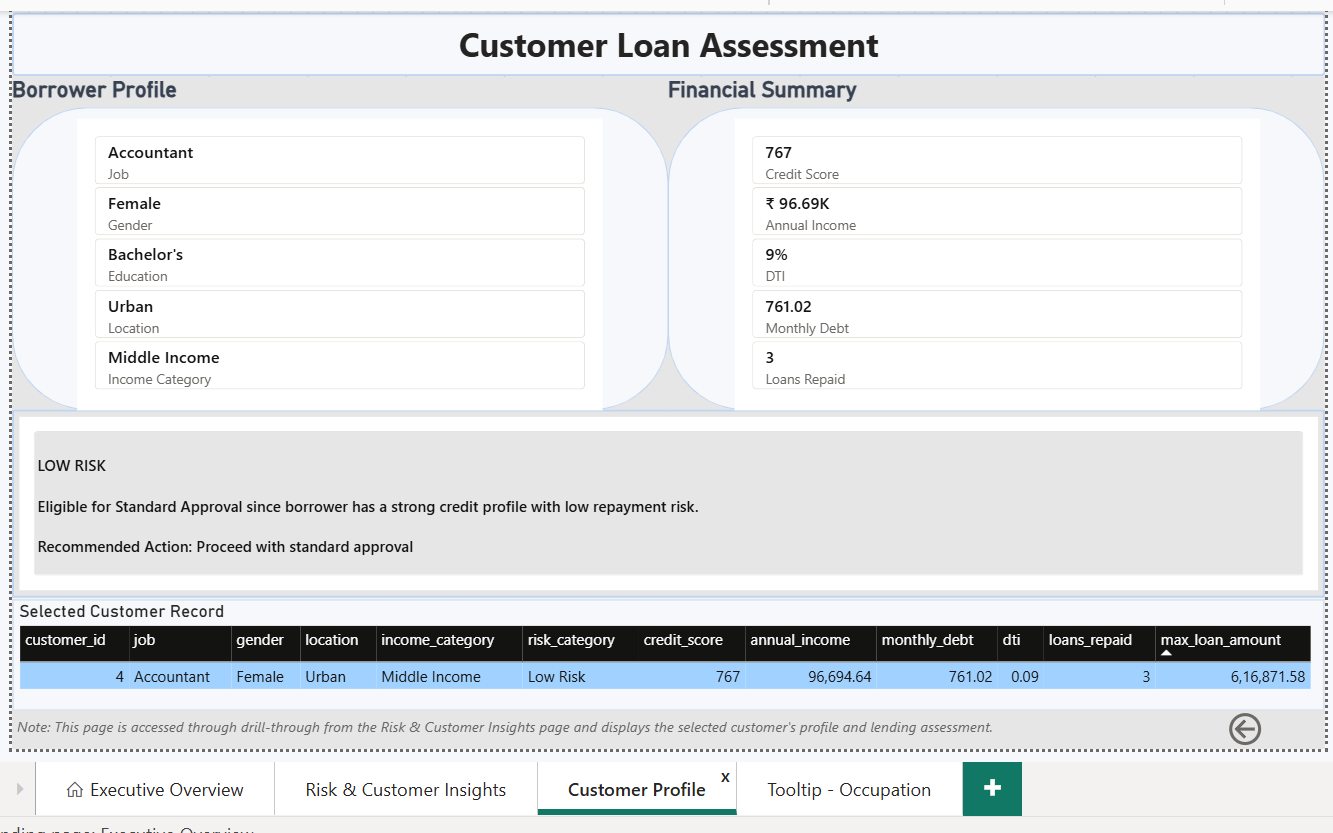

The page's visual inventory and layout, read from the dashboard file:
{"tool":"powerbi","page":{"name":"Customer Profile","canvas":[1280,720],"ordinal":2},"visuals":[{"type":"cardVisual","fields":{"Data":["mortgage.Risk Assessment"]},"box":[0,389.1,1280,183.6],"z":0},{"type":"textbox","box":[0,1.5,1280.5,62],"z":1000},{"type":"tableEx","title":"Selected Customer Record","fields":{"Values":["mortgage.customer_id","mortgage.job","mortgage.gender","mortgage.location","mortgage.income_category","mortgage.risk_category","mortgage.credit_score","mortgage.annual_income","mortgage.monthly_debt","mortgage.dti","mortgage.loans_repaid","mortgage.max_loan_amount"]},"box":[0,572.6,1280,109.5],"z":3000},{"type":"textbox","box":[0,682.1,1280,38.7],"z":4000},{"type":"shape","title":"Borrower Profile","box":[0,64,640,325.1],"z":5000},{"type":"cardVisual","fields":{"Data":["Min(mortgage.job)","Min(mortgage.gender)","Min(mortgage.education)","Min(mortgage.location)","Min(mortgage.income_category)"]},"box":[64,104.4,512,284.6],"z":6000},{"type":"shape","title":"Financial Summary","box":[640,64,640,325.1],"z":7000},{"type":"cardVisual","fields":{"Data":["Avg(mortgage.credit_score)","Sum(mortgage.annual_income)","Avg(mortgage.dti)","Avg(mortgage.monthly_debt)","Sum(mortgage.loans_repaid)"]},"box":[704,104.4,512,284.6],"z":8000},{"type":"actionButton","box":[1181.5,679.4,99,41.4],"z":8500}]}

Visuals, with their boxes on the page's 1280x720 design canvas (x1, y1, x2, y2). These are canvas units, not pixel positions in the 1333x833 screenshot, which may show the page scaled, cropped or inside an application window:
cardVisual - mortgage.Risk Assessment: box=[0, 389, 1280, 573]
textbox: box=[0, 2, 1280, 64]
"Selected Customer Record" tableEx: box=[0, 573, 1280, 682]
textbox: box=[0, 682, 1280, 721]
"Borrower Profile" shape: box=[0, 64, 640, 389]
cardVisual - Min(mortgage.job) x Min(mortgage.gender): box=[64, 104, 576, 389]
"Financial Summary" shape: box=[640, 64, 1280, 389]
cardVisual - Avg(mortgage.credit_score) x Sum(mortgage.annual_income): box=[704, 104, 1216, 389]
actionButton: box=[1182, 679, 1280, 721]
